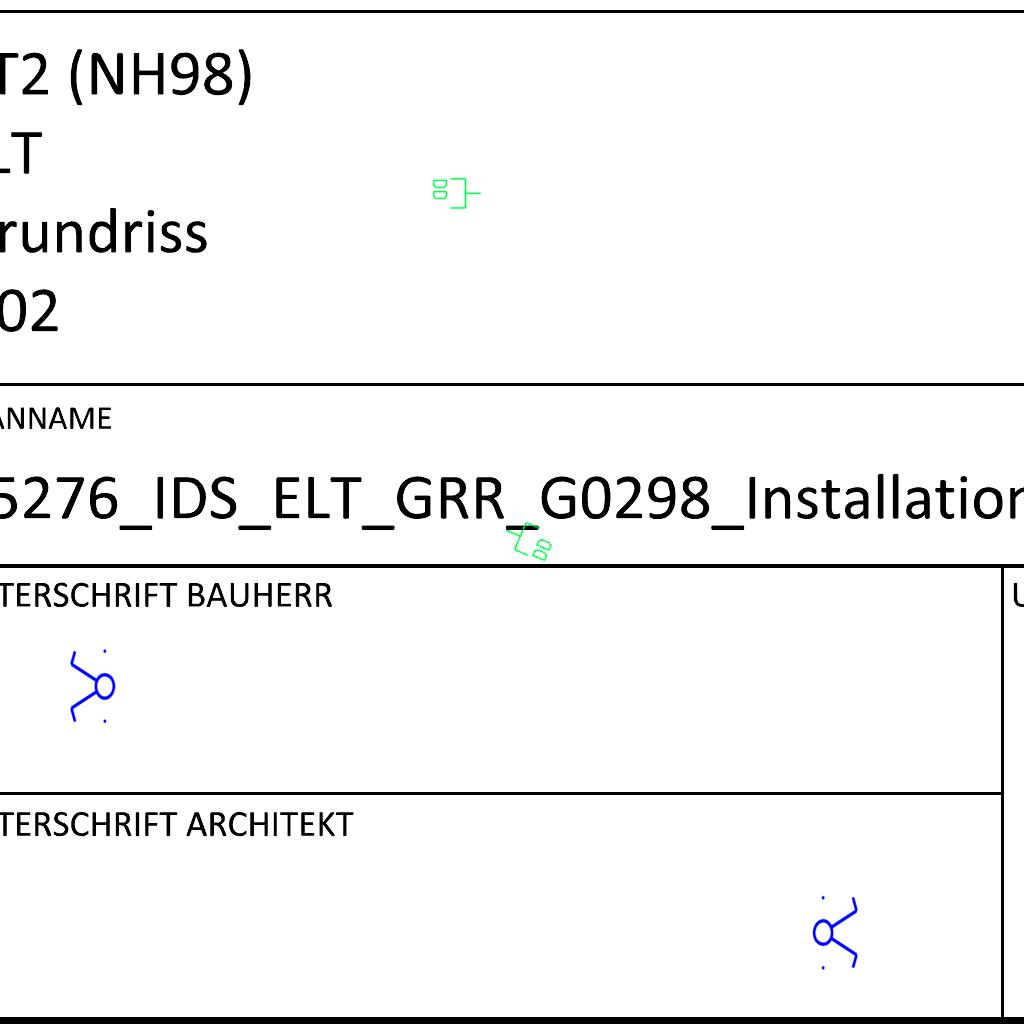Datenanschluss_zweifach: (498, 514, 559, 566), (431, 176, 482, 210)
Serienschalter: (68, 645, 116, 729), (812, 890, 860, 974)
